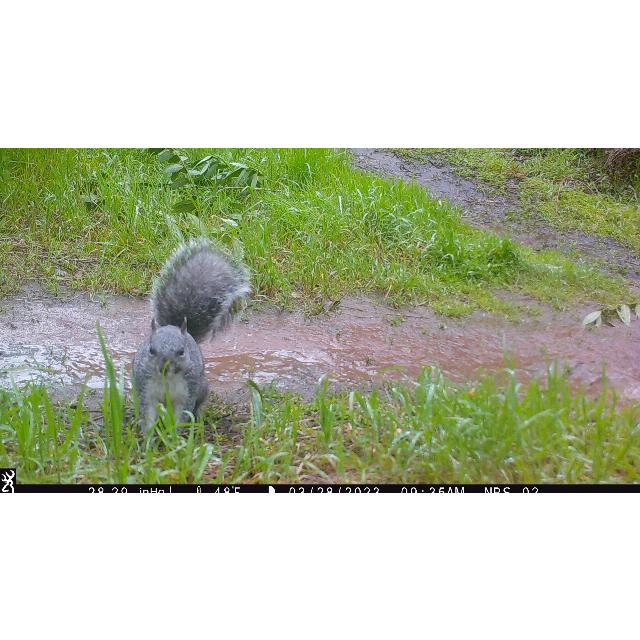animals: (130, 240, 250, 440)
